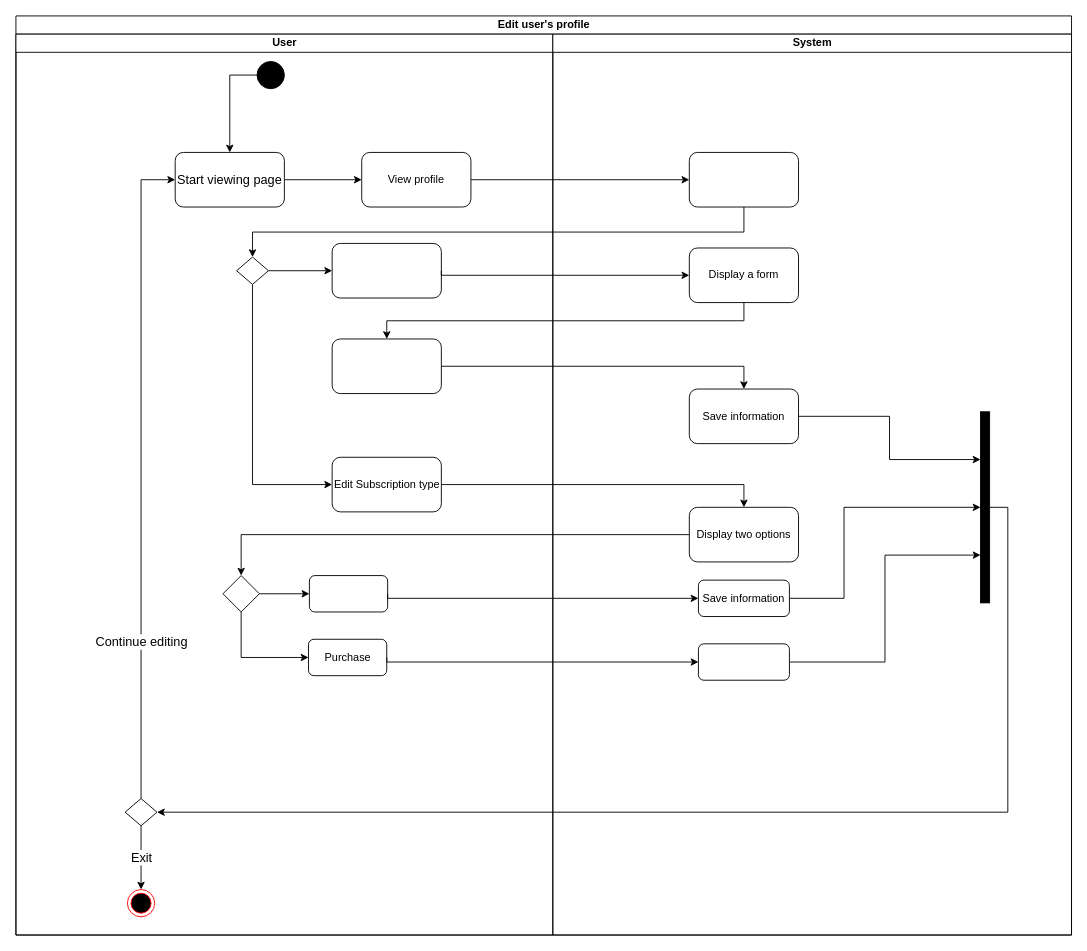
Image size: 1087x951. Some labels were removed from this diagram. Here are the shapes that lost their labels. From the top down, the centre of each, then its label:
At [743,179]: "Display a table containing all details of user".
At [386,270]: "Edit information".
At [386,366]: "Fill and Submit".
At [348,593]: "Free".
At [743,661]: "Change Free to Premium".
